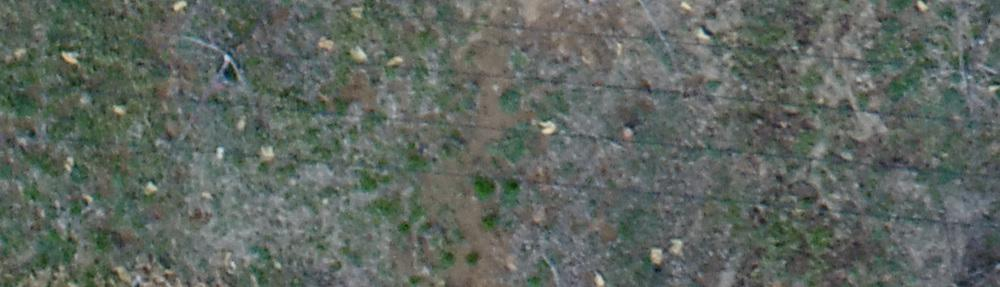apple: (149, 19, 292, 181)
